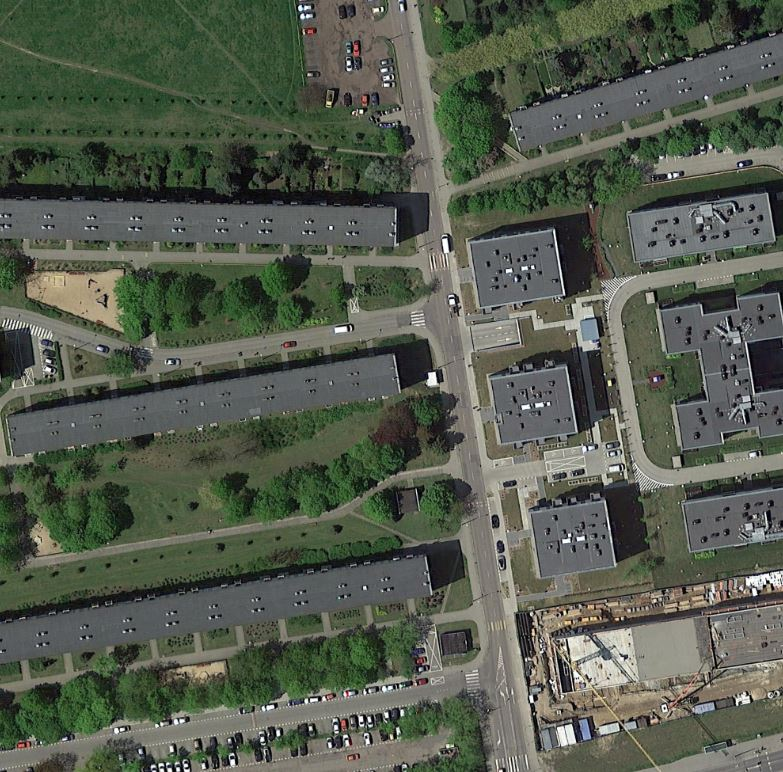block of flats: (1, 546, 443, 677), (1, 345, 412, 466), (502, 22, 783, 162), (1, 185, 408, 254), (654, 290, 783, 451), (623, 185, 781, 266), (461, 222, 572, 316), (486, 353, 583, 455), (669, 481, 783, 566), (522, 490, 620, 582)
